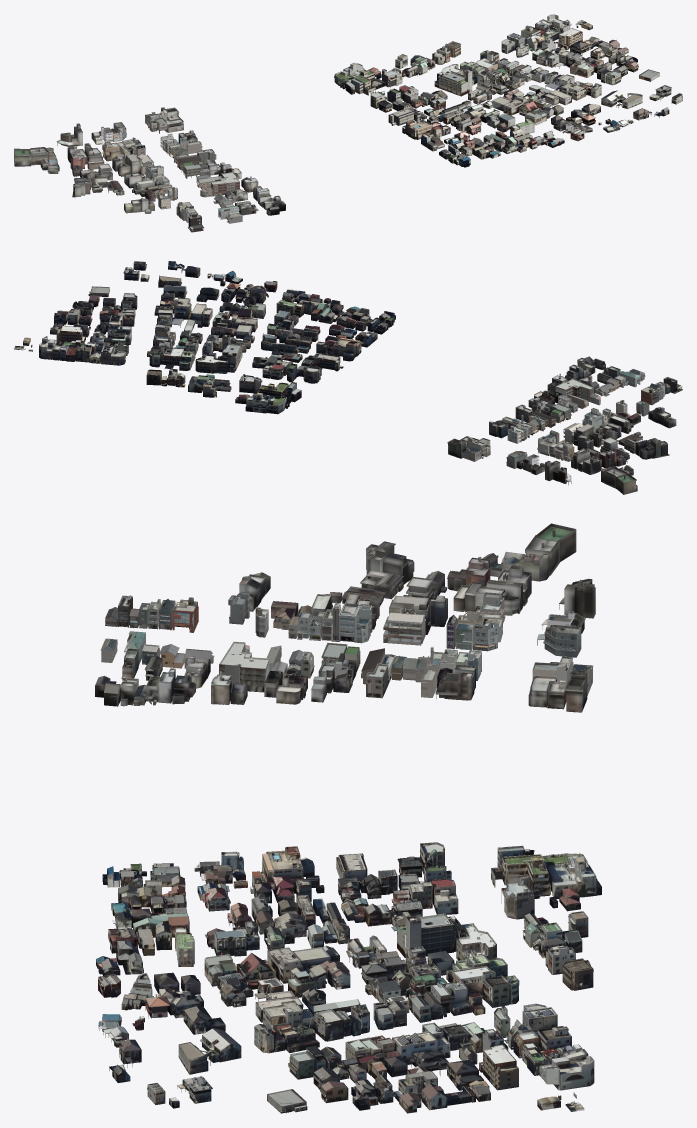
Rendered from 2023-lod3-station-4-1-packed.glb.
3 renders of one model, top to bottom at view 1: azimuth 30°, elevation 25°; view 2: azimuth 150°, elevation 25°; view 3: azimuth 270°, elevation 25°, orthographic. The views are drawn at different scales.
Bounding box in the file's own units: 625 × 21.07 × 237.
Materials: 20 (17 with a texture image).
